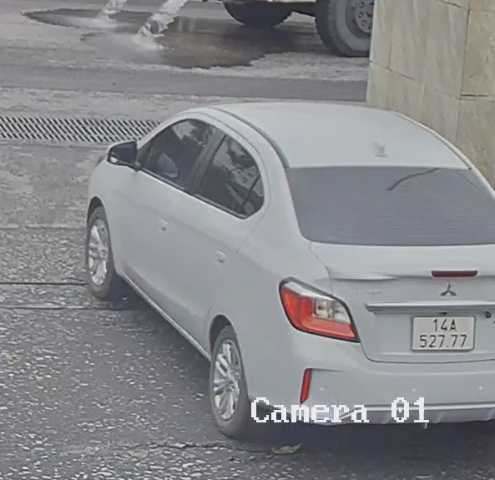vehicle plate: (405, 309, 479, 351)
